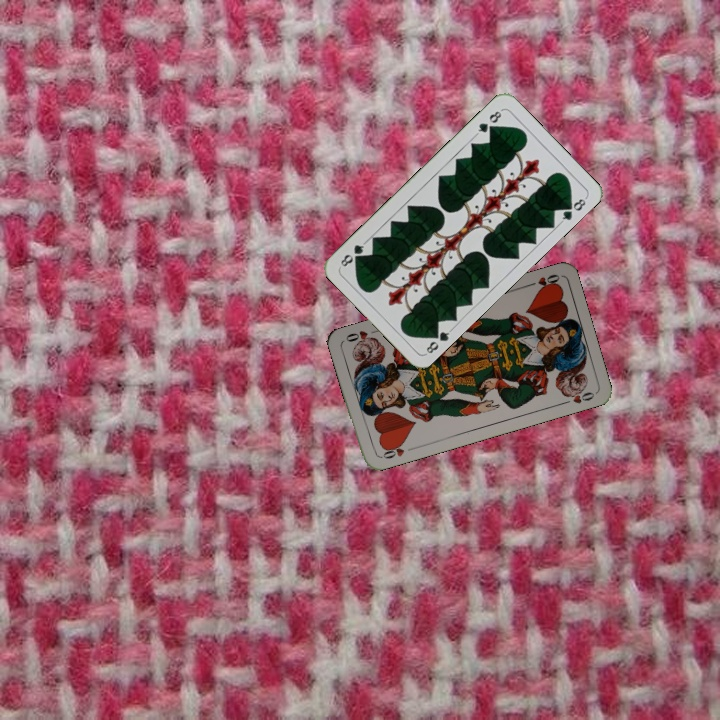G8: (472, 106, 505, 138), (422, 325, 455, 357)
HO: (376, 438, 416, 461), (522, 270, 562, 293)
